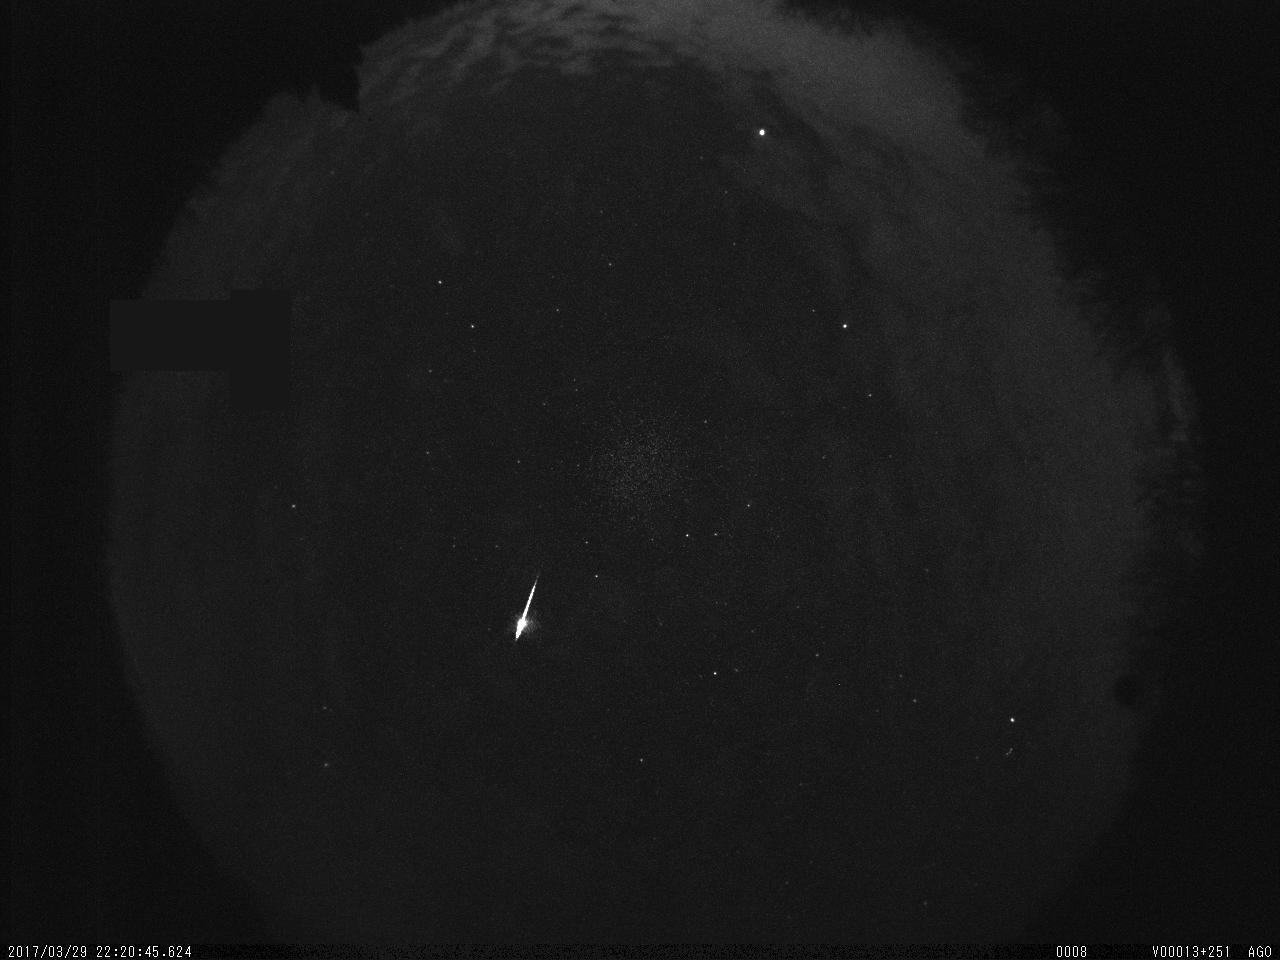meteor: (479, 525, 609, 705)
